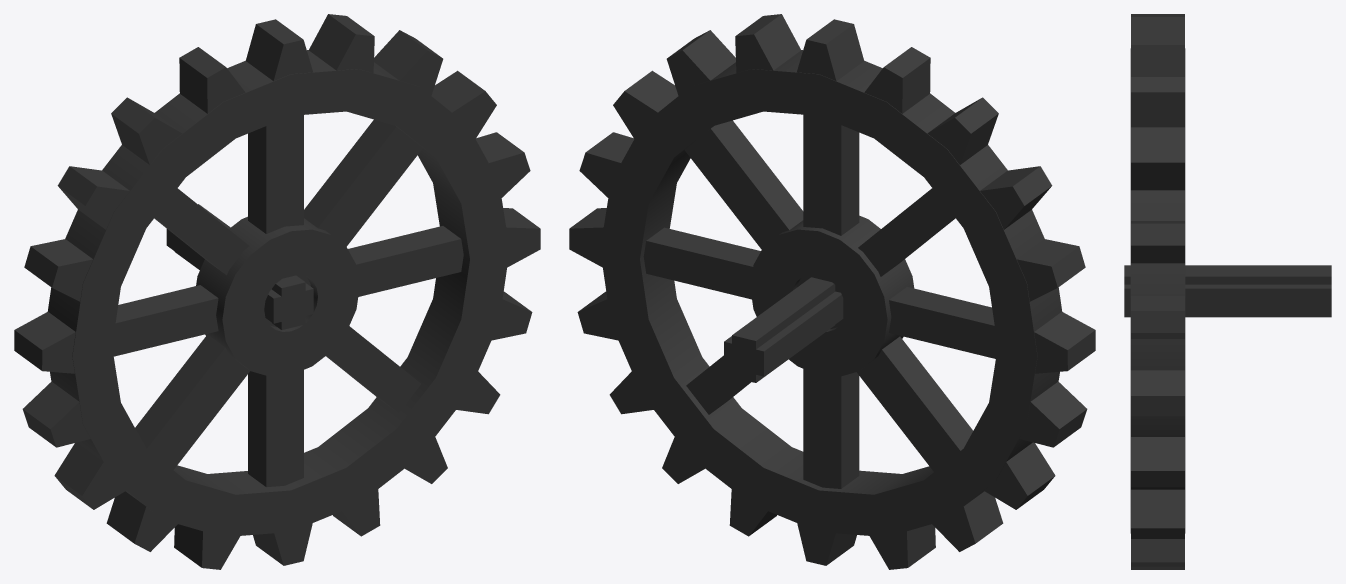
File: gear2_geo.obj
The picture shows the model from 3 angles, left to right: view 1: azimuth 30°, elevation 25°; view 2: azimuth 150°, elevation 25°; view 3: azimuth 270°, elevation 25°; orthographic projection. The views are drawn at different scales.
Parts seen in each view (by area): view 1: gear2_geo; view 2: gear2_geo; view 3: gear2_geo.
Boxes of the visible parts, x1,y1,x2,y2 form: gear2_geo: (14, 14, 540, 569); gear2_geo: (569, 14, 1095, 569); gear2_geo: (1124, 14, 1331, 569).
Bounding box in the file's own units: 0.3623 × 0.3623 × 0.1347.
